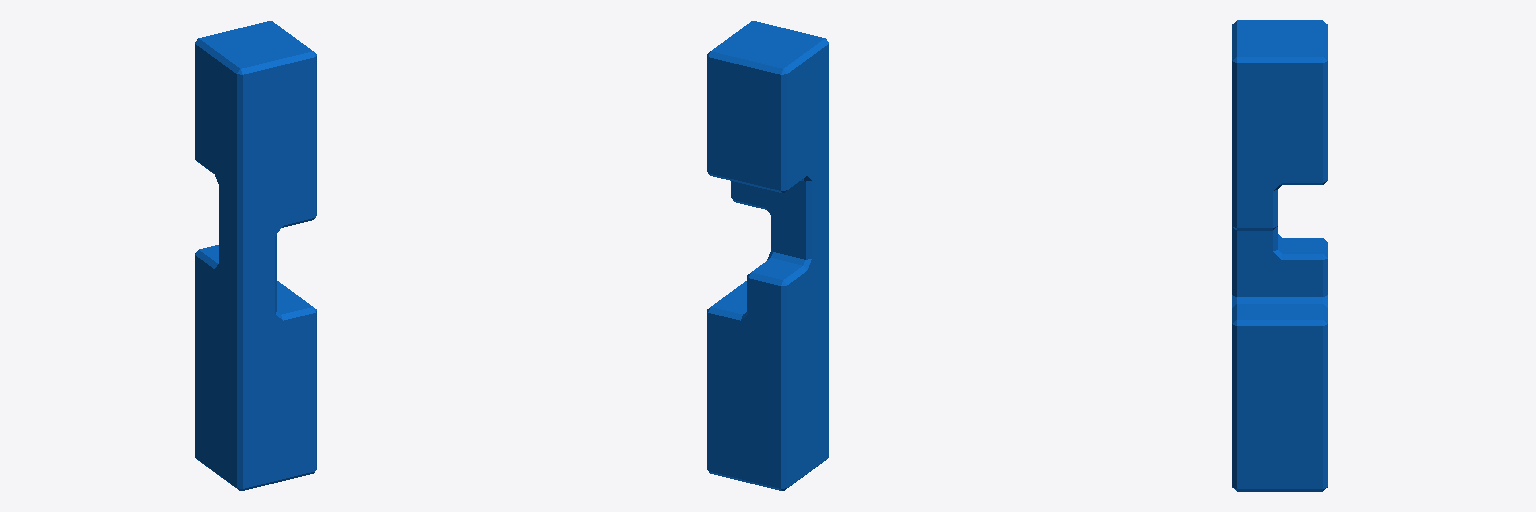
The robot description file, URDF, robot "obj_2":
<robot name="obj_2" version="1.0">
  <link name="obj_2">
    <collision name="obj_2.001">
      <origin rpy="0.00000 0.00000 0.00000" xyz="0.00000 0.00000 0.00000"/>
      <geometry>
        <mesh filename="../meshes/obj/geometry_0.003.obj" scale="1.00000 1.00000 1.00000"/>
      </geometry>
    </collision>
    <collision name="obj_2.002">
      <origin rpy="0.00000 0.00000 0.00000" xyz="0.00000 0.00000 0.00000"/>
      <geometry>
        <mesh filename="../meshes/obj/geometry_1.003.obj" scale="1.00000 1.00000 1.00000"/>
      </geometry>
    </collision>
    <collision name="obj_2.003">
      <origin rpy="0.00000 0.00000 0.00000" xyz="0.00000 0.00000 0.00000"/>
      <geometry>
        <mesh filename="../meshes/obj/geometry_2.003.obj" scale="1.00000 1.00000 1.00000"/>
      </geometry>
    </collision>
    <collision name="obj_2.004">
      <origin rpy="0.00000 0.00000 0.00000" xyz="0.00000 0.00000 0.00000"/>
      <geometry>
        <mesh filename="../meshes/obj/geometry_3.003.obj" scale="1.00000 1.00000 1.00000"/>
      </geometry>
    </collision>
    <collision name="obj_2.005">
      <origin rpy="0.00000 0.00000 0.00000" xyz="0.00000 0.00000 0.00000"/>
      <geometry>
        <mesh filename="../meshes/obj/geometry_4.003.obj" scale="1.00000 1.00000 1.00000"/>
      </geometry>
    </collision>
    <collision name="obj_2.006">
      <origin rpy="0.00000 0.00000 0.00000" xyz="0.00000 0.00000 0.00000"/>
      <geometry>
        <mesh filename="../meshes/obj/geometry_5.002.obj" scale="1.00000 1.00000 1.00000"/>
      </geometry>
    </collision>
    <collision name="obj_2.007">
      <origin rpy="0.00000 0.00000 0.00000" xyz="0.00000 0.00000 0.00000"/>
      <geometry>
        <mesh filename="../meshes/obj/geometry_6.002.obj" scale="1.00000 1.00000 1.00000"/>
      </geometry>
    </collision>
    <collision name="obj_2.008">
      <origin rpy="0.00000 0.00000 0.00000" xyz="0.00000 0.00000 0.00000"/>
      <geometry>
        <mesh filename="../meshes/obj/geometry_7.002.obj" scale="1.00000 1.00000 1.00000"/>
      </geometry>
    </collision>
    <collision name="obj_2.009">
      <origin rpy="0.00000 0.00000 0.00000" xyz="0.00000 0.00000 0.00000"/>
      <geometry>
        <mesh filename="../meshes/obj/geometry_8.001.obj" scale="1.00000 1.00000 1.00000"/>
      </geometry>
    </collision>
    <collision name="obj_2.010">
      <origin rpy="0.00000 0.00000 0.00000" xyz="0.00000 0.00000 0.00000"/>
      <geometry>
        <mesh filename="../meshes/obj/geometry_9.obj" scale="1.00000 1.00000 1.00000"/>
      </geometry>
    </collision>
    <collision name="obj_2.011">
      <origin rpy="0.00000 0.00000 0.00000" xyz="0.00000 0.00000 0.00000"/>
      <geometry>
        <mesh filename="../meshes/obj/geometry_10.obj" scale="1.00000 1.00000 1.00000"/>
      </geometry>
    </collision>
    <collision name="obj_2.012">
      <origin rpy="0.00000 0.00000 0.00000" xyz="0.00000 0.00000 0.00000"/>
      <geometry>
        <mesh filename="../meshes/obj/geometry_11.obj" scale="1.00000 1.00000 1.00000"/>
      </geometry>
    </collision>
    <collision name="obj_2.013">
      <origin rpy="0.00000 0.00000 0.00000" xyz="0.00000 0.00000 0.00000"/>
      <geometry>
        <mesh filename="../meshes/obj/geometry_12.obj" scale="1.00000 1.00000 1.00000"/>
      </geometry>
    </collision>
    <collision name="obj_2.014">
      <origin rpy="0.00000 0.00000 0.00000" xyz="0.00000 0.00000 0.00000"/>
      <geometry>
        <mesh filename="../meshes/obj/geometry_13.obj" scale="1.00000 1.00000 1.00000"/>
      </geometry>
    </collision>
    <collision name="obj_2.015">
      <origin rpy="0.00000 0.00000 0.00000" xyz="0.00000 0.00000 0.00000"/>
      <geometry>
        <mesh filename="../meshes/obj/geometry_14.obj" scale="1.00000 1.00000 1.00000"/>
      </geometry>
    </collision>
    <inertial>
      <inertia ixx="0.00023" ixy="-0.00000" ixz="-0.00000" iyy="0.00023" iyz="-0.00000" izz="0.00002"/>
      <origin rpy="0.00000 0.00000 0.00000" xyz="0.00000 0.00000 0.00000"/>
      <mass value="0.01000"/>
    </inertial>
    <visual name="obj_2_vis">
      <material name="turnarrow_skyblue"/>
      <origin rpy="-3.14159 -1.57080 0.00000" xyz="-0.26242 0.20250 0.26750"/>
      <geometry>
        <mesh filename="../meshes/obj/obj_1_LUBAANSUO2.stp.001.obj" scale="0.00500 0.00500 0.00500"/>
      </geometry>
    </visual>
  </link>
  <material name="turnarrow_skyblue">
    <color rgba="0.09020 0.45490 0.81176 1.00000"/>
  </material>
</robot>

--- Render facts (derived) ---
3 views of the same robot in one strip: view 1: azimuth 30°, elevation 25°; view 2: azimuth 150°, elevation 25°; view 3: azimuth 270°, elevation 25° (orthographic).
Robot: obj_2 — 1 links, 0 joints (none); root link obj_2; default pose: every joint at zero.
Links seen in each view (by area): view 1: obj_2; view 2: obj_2; view 3: obj_2.
Link boxes in pixels (x1=…): obj_2: x1=195, y1=21, x2=316, y2=490; obj_2: x1=707, y1=21, x2=828, y2=490; obj_2: x1=1232, y1=20, x2=1327, y2=491.
Size in the robot's own frame: 0.1 by 0.1 by 0.5 metres.
1 mesh visuals loaded from 1 distinct referenced files (1 OBJ).